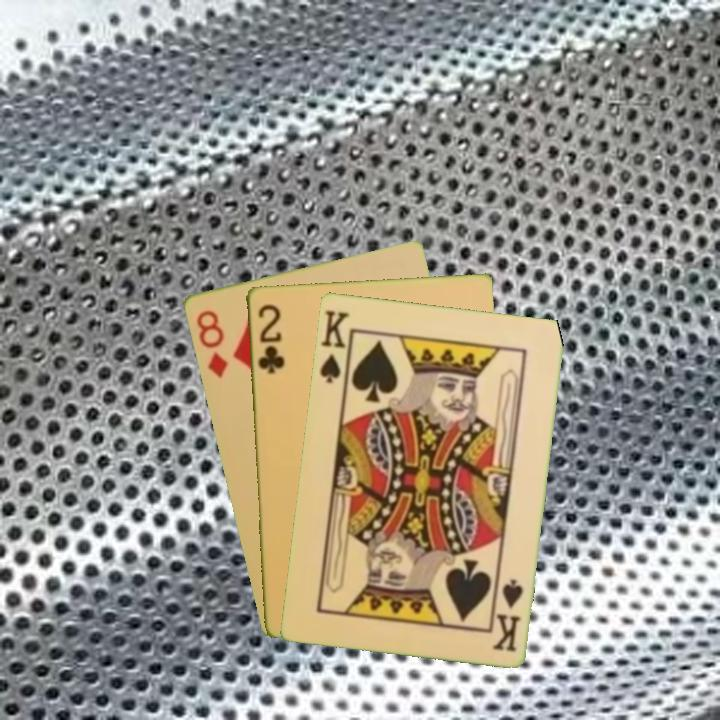2c: (253, 300, 287, 376)
8d: (192, 306, 230, 381)
Ks: (488, 575, 526, 654), (316, 306, 352, 386)
